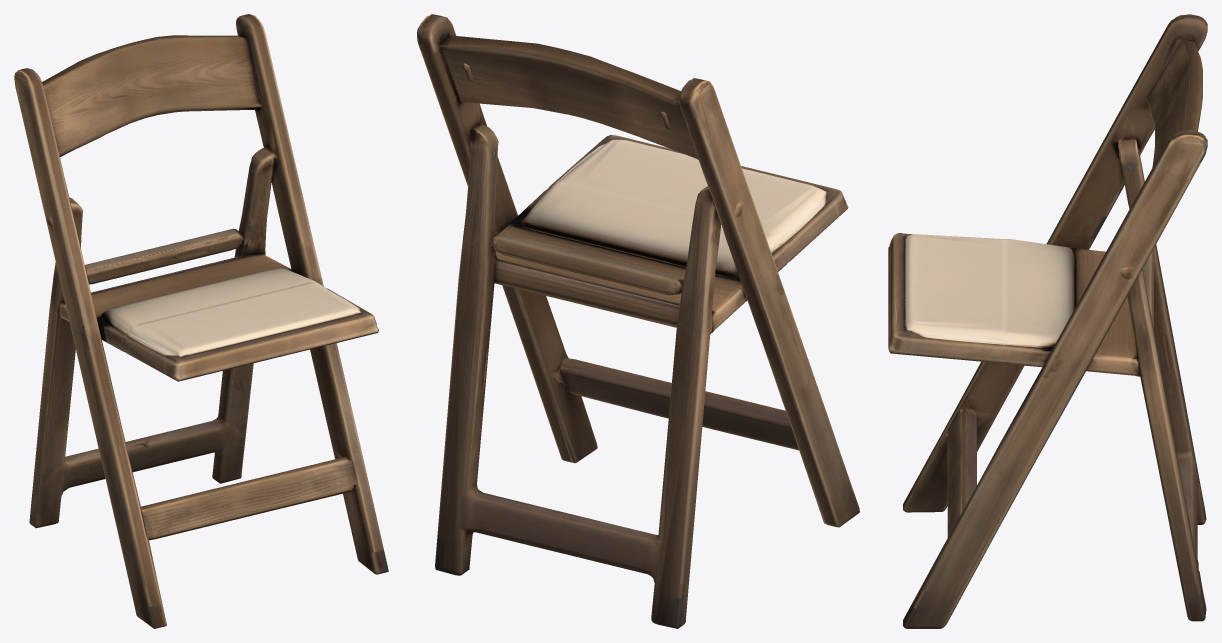
The model's file is Chestnut_Padded_Garden_chair_0404163553_texture.glb.
The picture shows the model from 3 angles, left to right: view 1: azimuth 30°, elevation 25°; view 2: azimuth 150°, elevation 25°; view 3: azimuth 270°, elevation 25°; orthographic projection. The views are drawn at different scales.
Parts seen in each view (by area): view 1: Mesh_0; view 2: Mesh_0; view 3: Mesh_0.
Part boxes in pixels (x1,y1,x2,y2): Mesh_0: (14, 14, 388, 628); Mesh_0: (417, 14, 859, 628); Mesh_0: (888, 14, 1207, 628).
Bounding box in the file's own units: 0.4423 × 0.8128 × 0.4757.
Materials: 1 (1 with a texture image).
